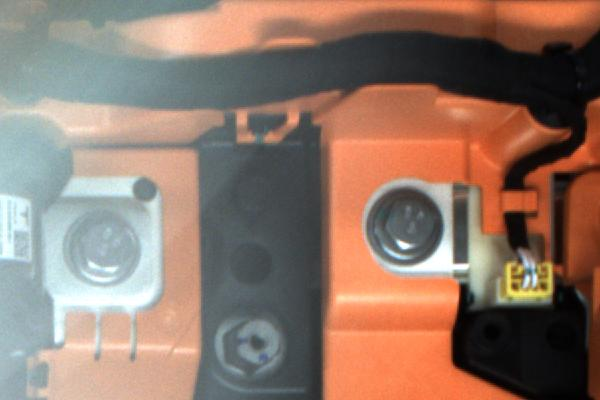nut_b: (353, 177, 451, 267), (51, 209, 153, 288)
